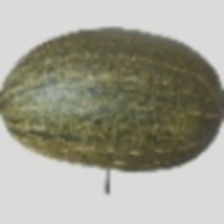honeydew: (0, 39, 198, 180)
